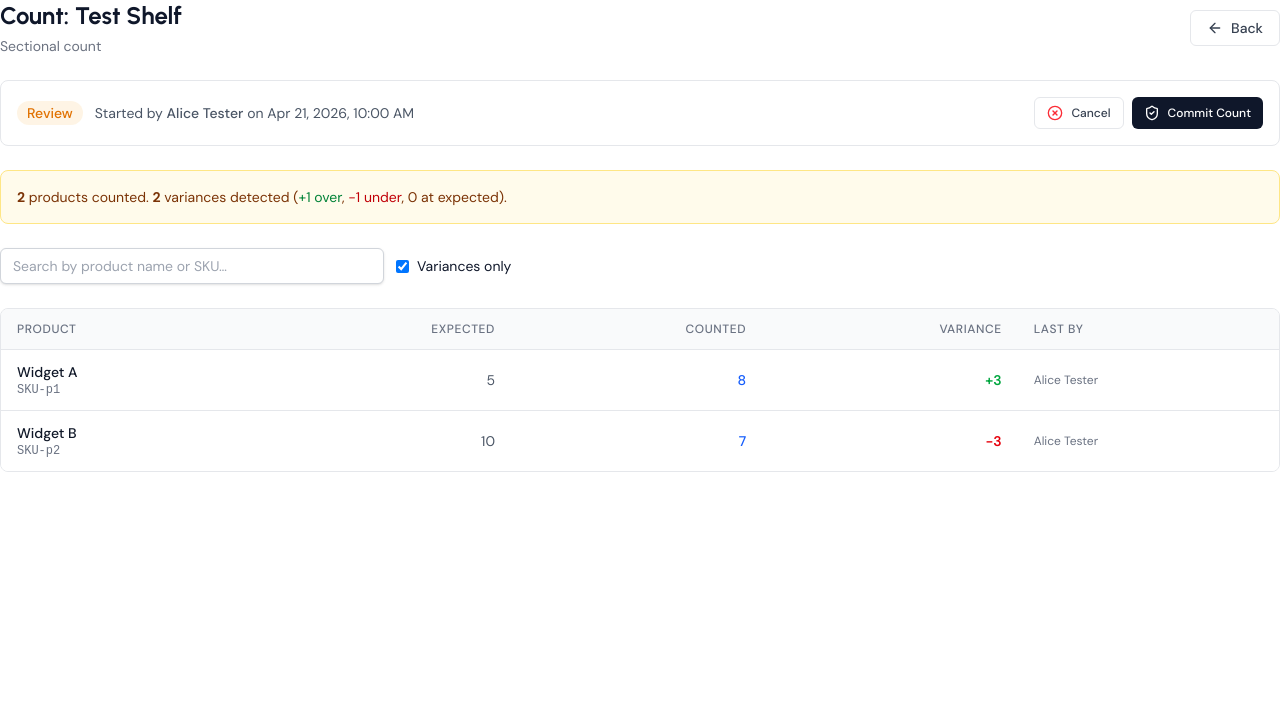
Test: CountDetailPage › commit button opens the confirm modal with variance preview
Expected: the heading "Count: Test Shelf" is shown, [0,0,182,32]
// Click Commit Count
Click the button "Commit Count": x=1197, y=113 [1132,97,1263,129]
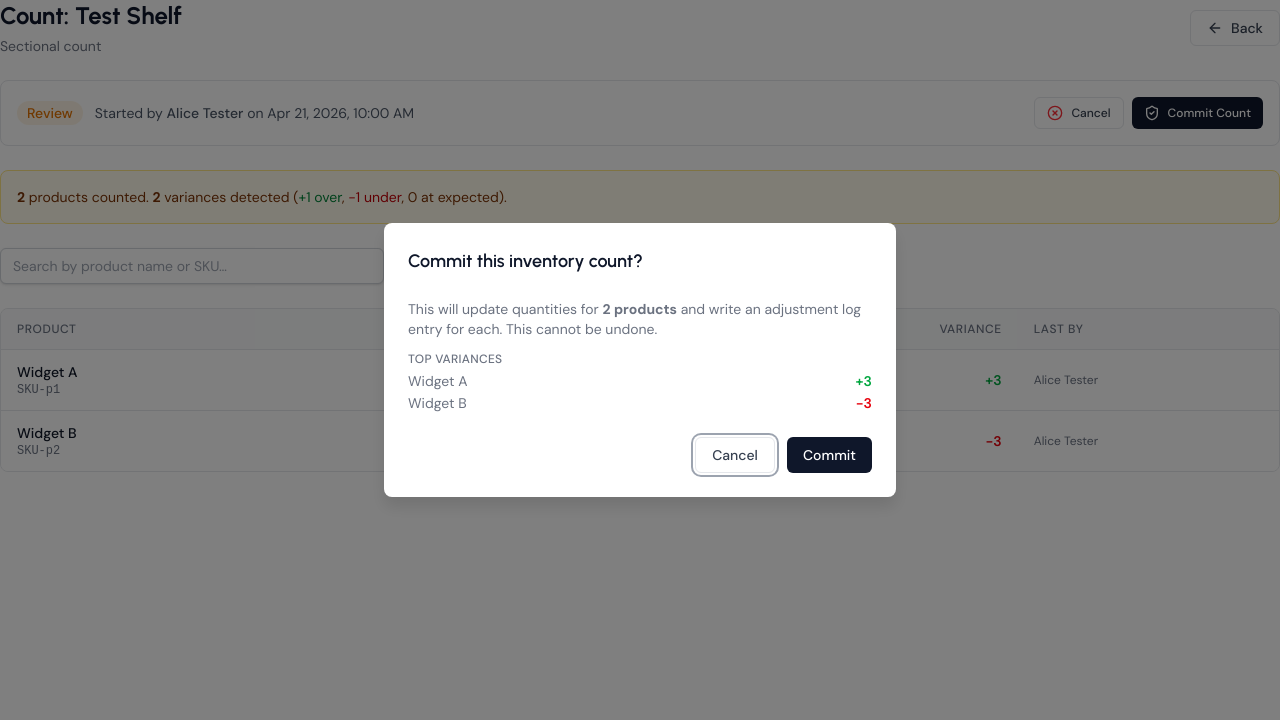
Expected: the heading "Commit this inventory count?" is shown, [408,250,643,272]
